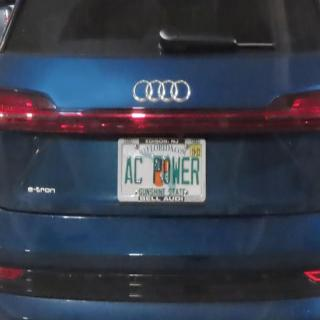license: (117, 138, 209, 206)
